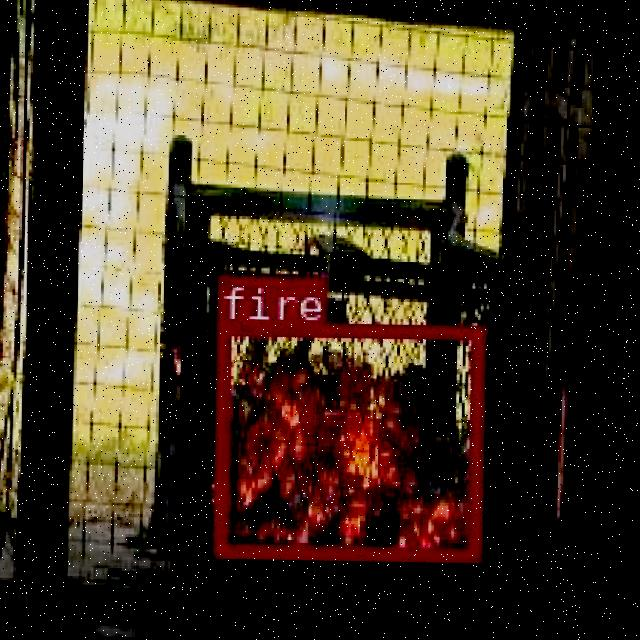fire: (212, 319, 480, 560)
